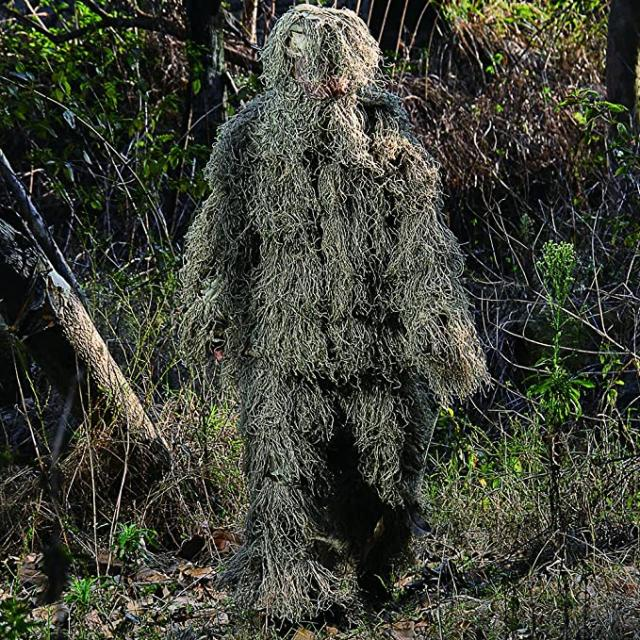Human: (170, 8, 487, 628)
